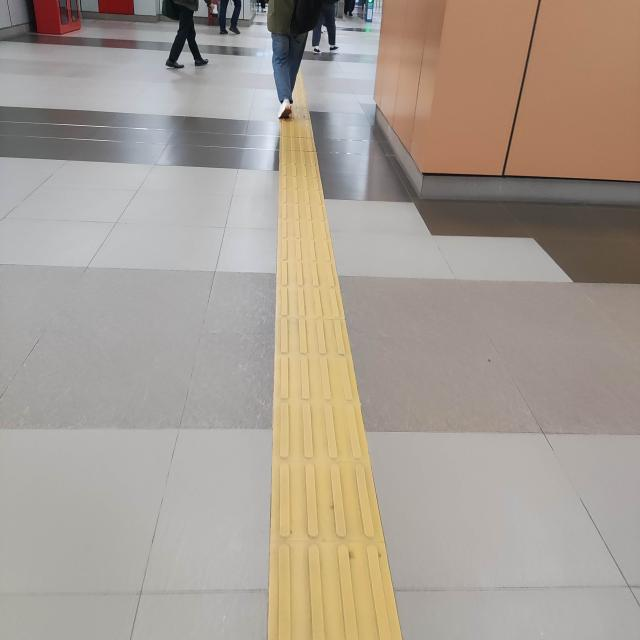lurus: (260, 140, 379, 640)
